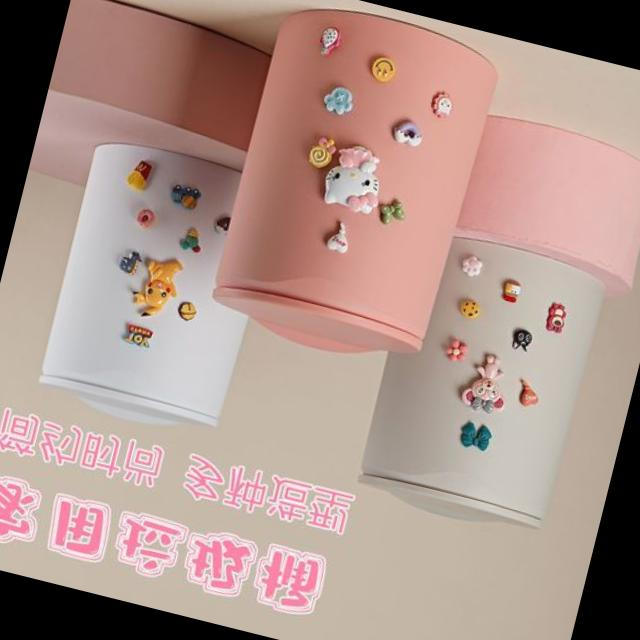dustbin: (195, 0, 512, 382), (348, 218, 614, 548), (23, 130, 292, 450)
